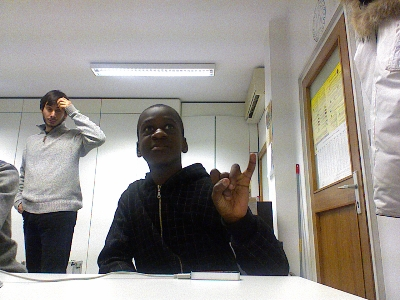小指: (207, 152, 257, 221)
